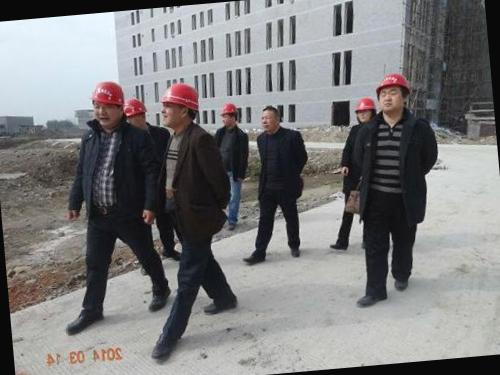no_helmet: (256, 103, 286, 136)
